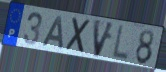3: (22, 11, 43, 46)
8: (134, 28, 157, 65)
A: (40, 16, 64, 51)
L: (110, 24, 131, 63)
V: (92, 18, 116, 60)
X: (64, 16, 93, 56)
